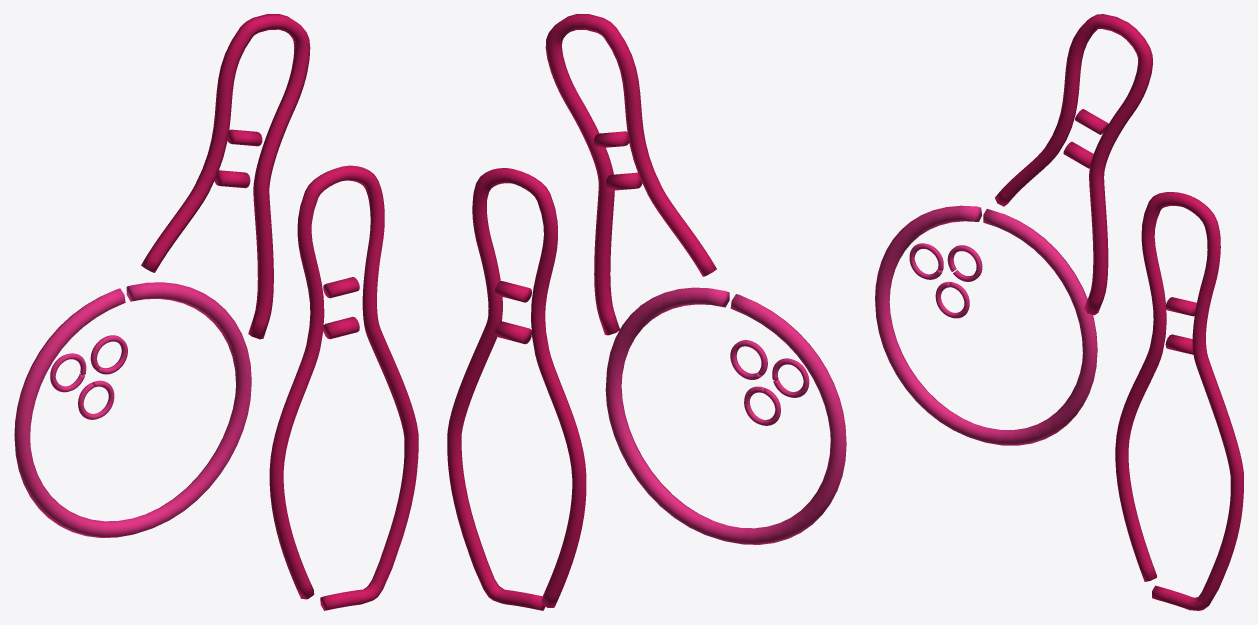
File: bowling_neon.fbx
The picture shows the model from 3 angles, left to right: view 1: azimuth 30°, elevation 25°; view 2: azimuth 150°, elevation 25°; view 3: azimuth 330°, elevation 25°; orthographic projection. The views are drawn at different scales.
Visible parts, largest first — view 1: BowlNeon; view 2: BowlNeon; view 3: BowlNeon.
Boxes of the visible parts, x1,y1,x2,y2 form: BowlNeon: [14, 14, 418, 610]; BowlNeon: [447, 14, 846, 610]; BowlNeon: [875, 14, 1243, 610].
Bounding box in the file's own units: 12.11 × 0.78 × 17.59.
